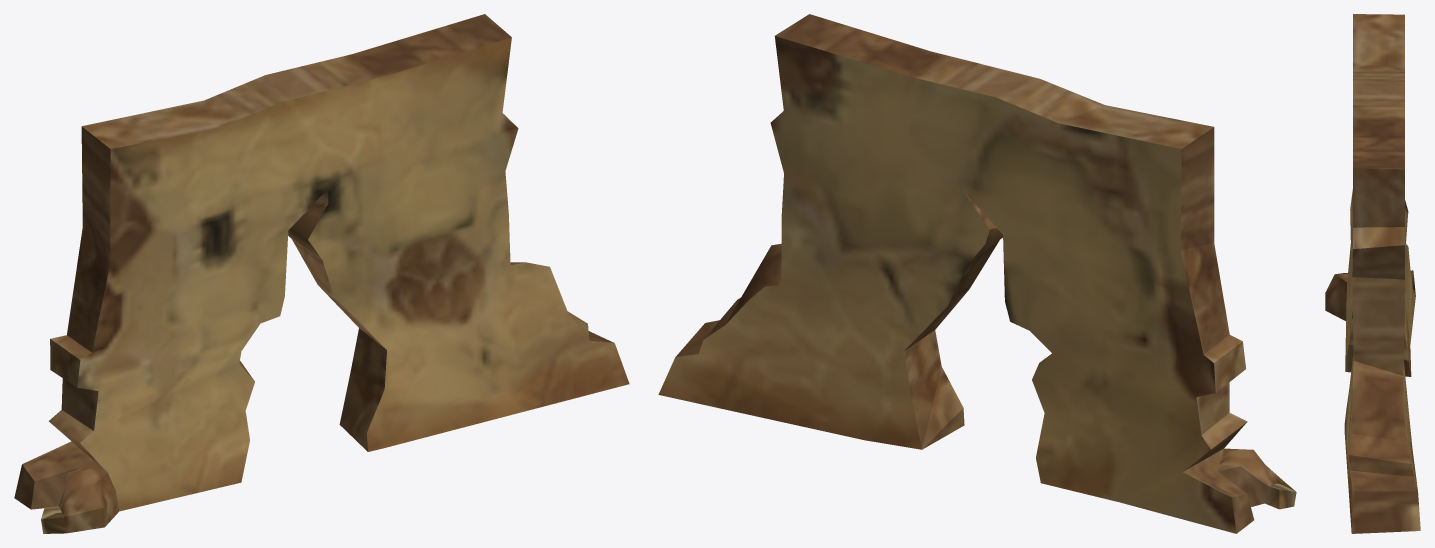
The model's file is ruins_11.fbx.
3 renders of one model, left to right at view 1: azimuth 30°, elevation 25°; view 2: azimuth 150°, elevation 25°; view 3: azimuth 270°, elevation 25°, orthographic. The views are drawn at different scales.
Visible parts, largest first — view 1: Object046; view 2: Object046; view 3: Object046.
Boxes of the visible parts, x1,y1,x2,y2 form: Object046: (14,14,629,533); Object046: (658,14,1296,533); Object046: (1325,14,1420,533).
Bounding box in the file's own units: 722 × 438 × 119.
Materials: 1 (1 with a texture image).
